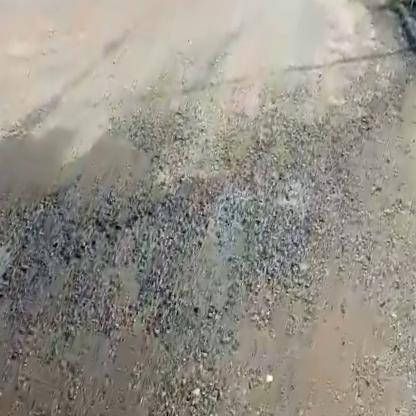pothole: (0, 224, 18, 327)
